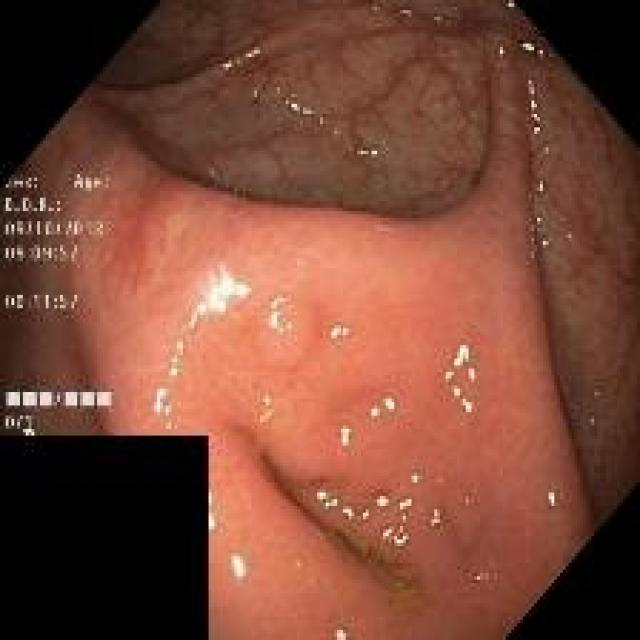Polyps: (260, 293, 316, 367)
